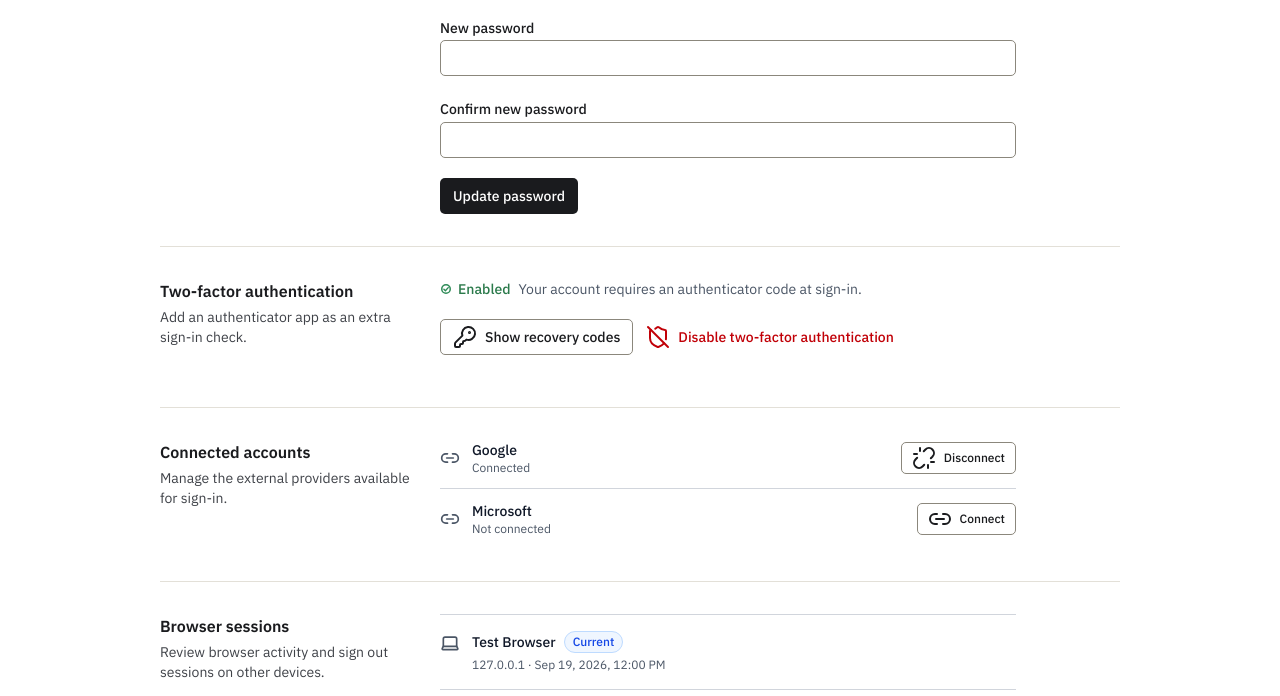
Test: keeps recovery codes concealed until explicitly requested
(page scrolled)
Check: the text "recovery-one" is not shown
Click the button "Show recovery codes": (537, 337) [440,319,633,355]
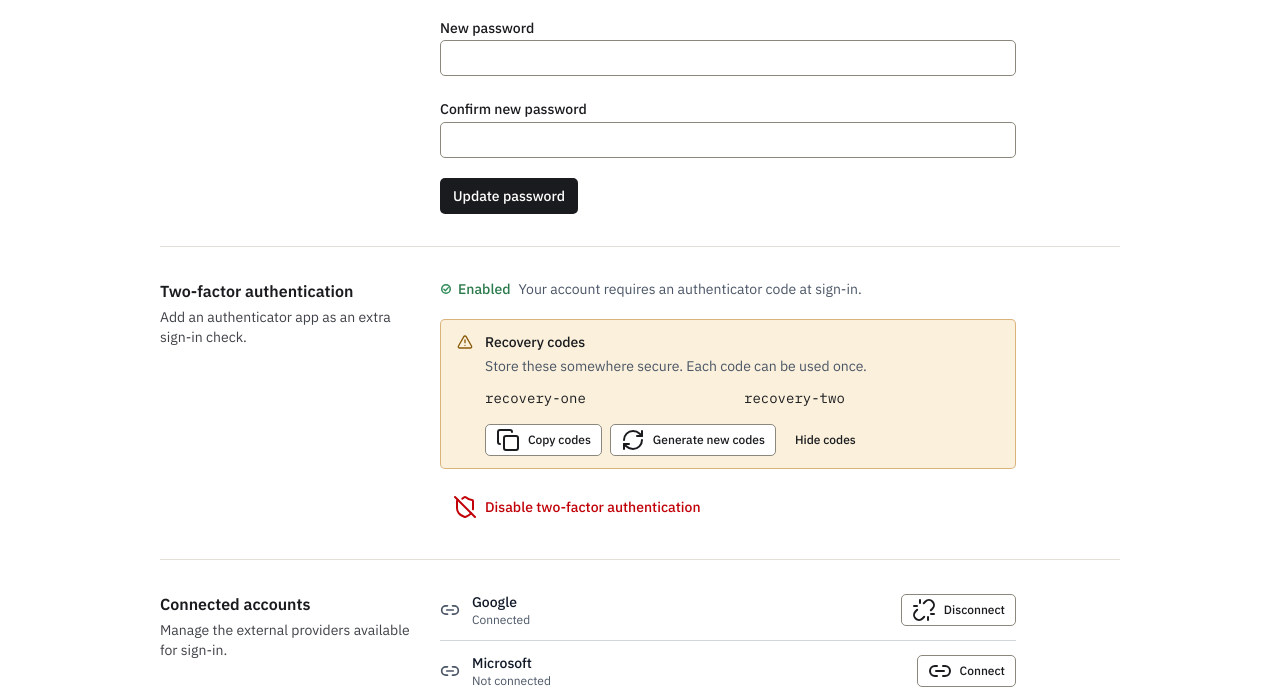
Check: the list item "recovery-one" is shown, box [485,389,586,407]
